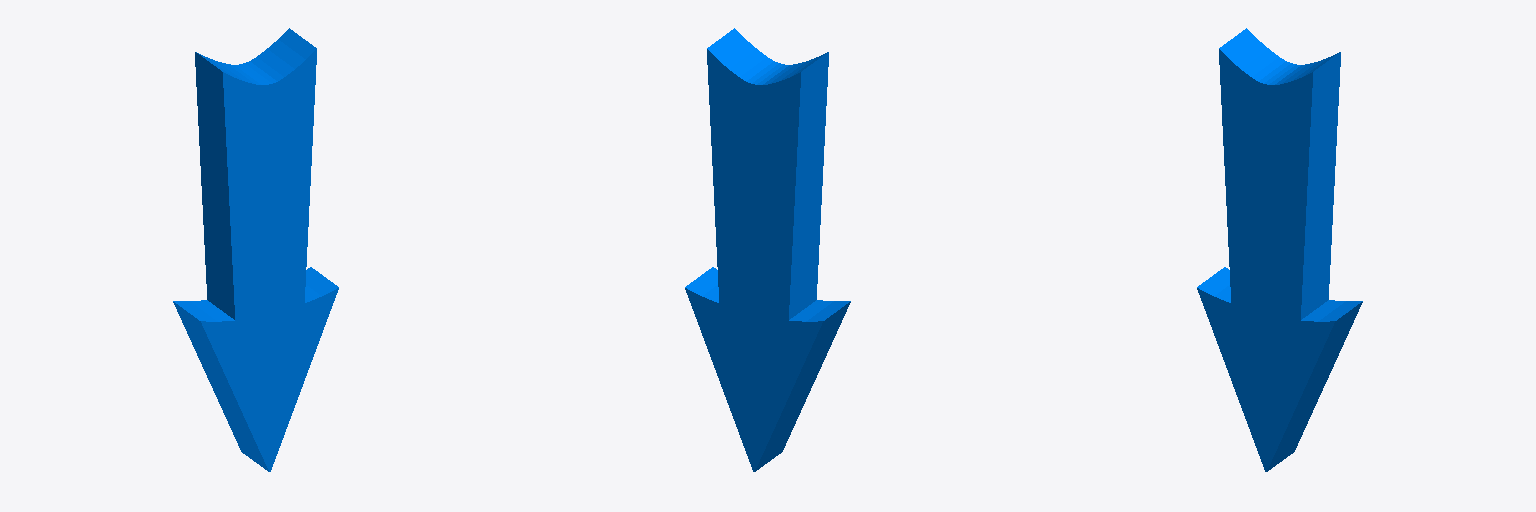
The model's file is JianTou_Blue.obj.
3 renders of one model, left to right at view 1: azimuth 30°, elevation 25°; view 2: azimuth 150°, elevation 25°; view 3: azimuth 330°, elevation 25°, orthographic.
Parts seen in each view (by area): view 1: pCube1; view 2: pCube1; view 3: pCube1.
Boxes of the visible parts, x1=… form: pCube1: x1=173, y1=28, x2=338, y2=471; pCube1: x1=685, y1=28, x2=850, y2=471; pCube1: x1=1197, y1=28, x2=1362, y2=471.
Size of the model in its own units: 1.44 by 4.08 by 0.502.